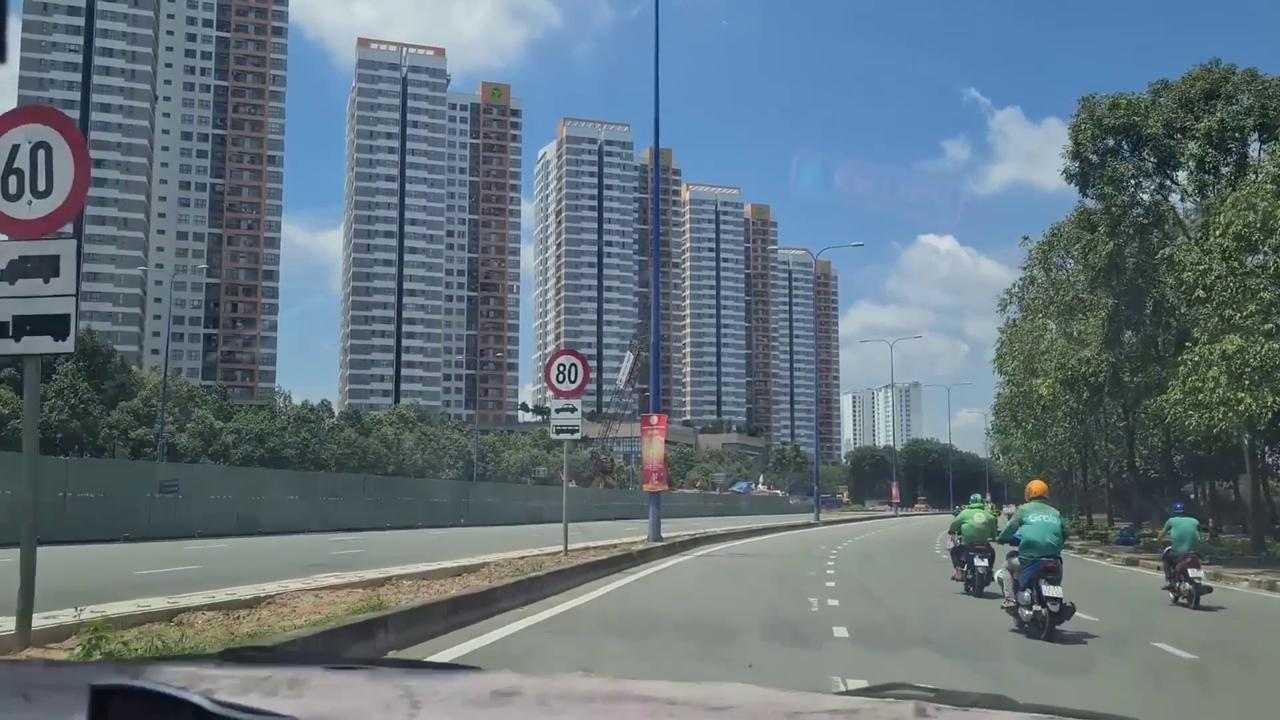Biển phụ: (0, 237, 76, 356), (549, 398, 583, 441)
GIơi hạn tốc độ 60Km/h: (0, 103, 94, 242)
Giới hạn tốc độ 80Km/h: (543, 348, 592, 399)
